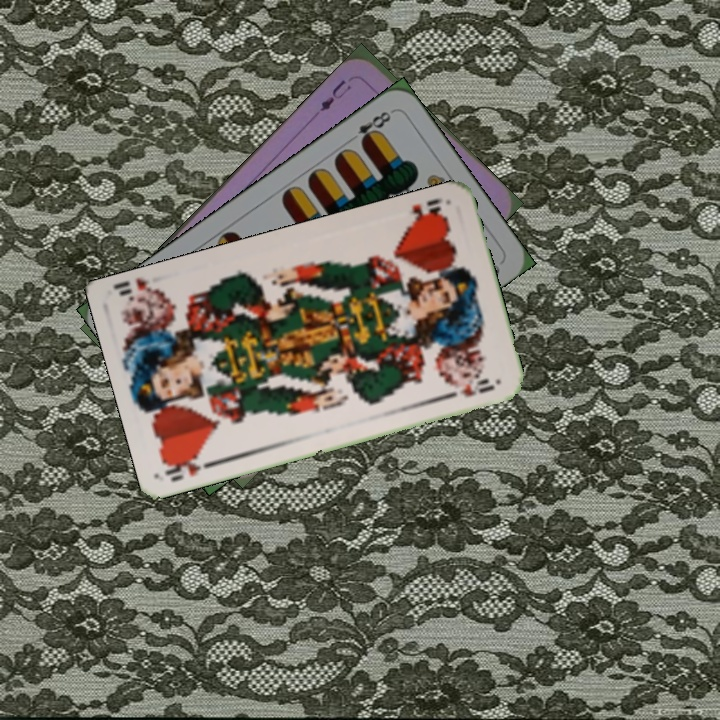E8: (344, 106, 396, 148)
EU: (315, 75, 354, 114)
HO: (160, 452, 221, 484), (408, 194, 450, 227)
